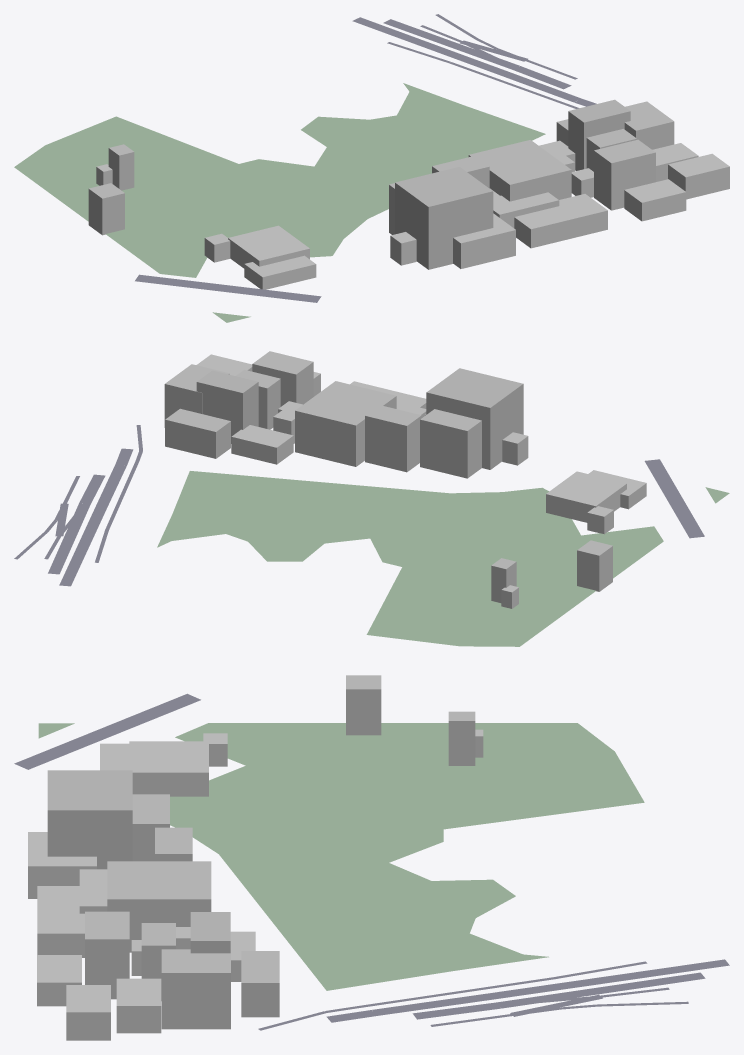
Rendered from 112_83_mid.glb.
3 renders of one model, top to bottom at view 1: azimuth 30°, elevation 25°; view 2: azimuth 150°, elevation 25°; view 3: azimuth 270°, elevation 25°, orthographic. The views are drawn at different scales.
Bounding box in the file's own units: 547 × 60.72 × 489.
